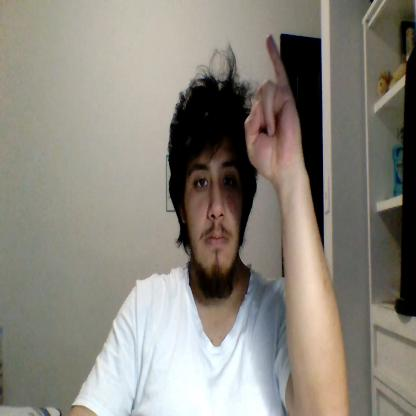I: (246, 32, 304, 179)
